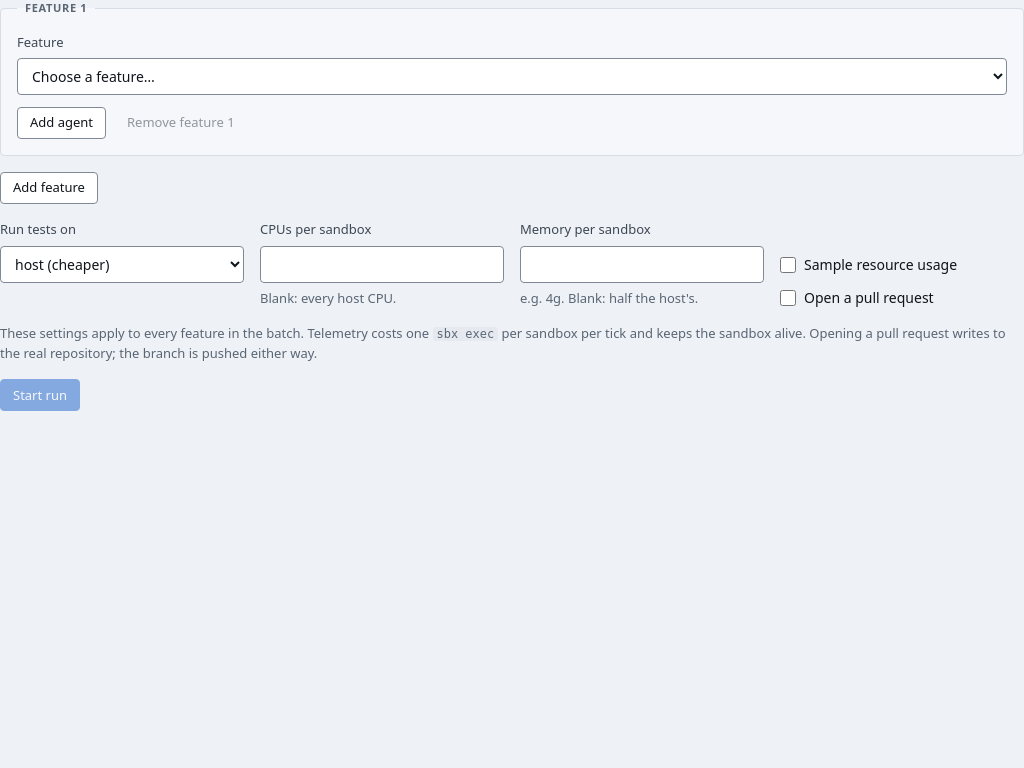
Test case: RunLauncher › starts a run with the chosen feature and agents
Select "add-separable-verbs" in the dropdown labelled "Feature" at {"x": 512, "y": 76}, box [17,58,1007,95]
(page scrolled)
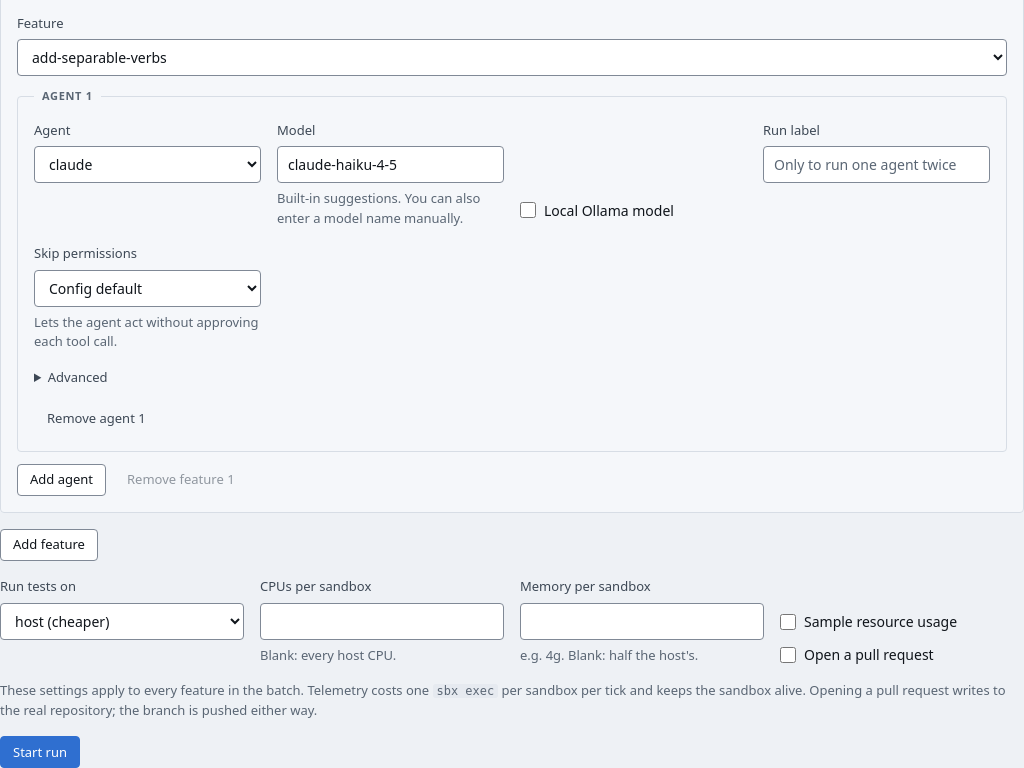
Click the button "Start run".
click(40, 752)  # box [0,736,80,767]
(page scrolled)
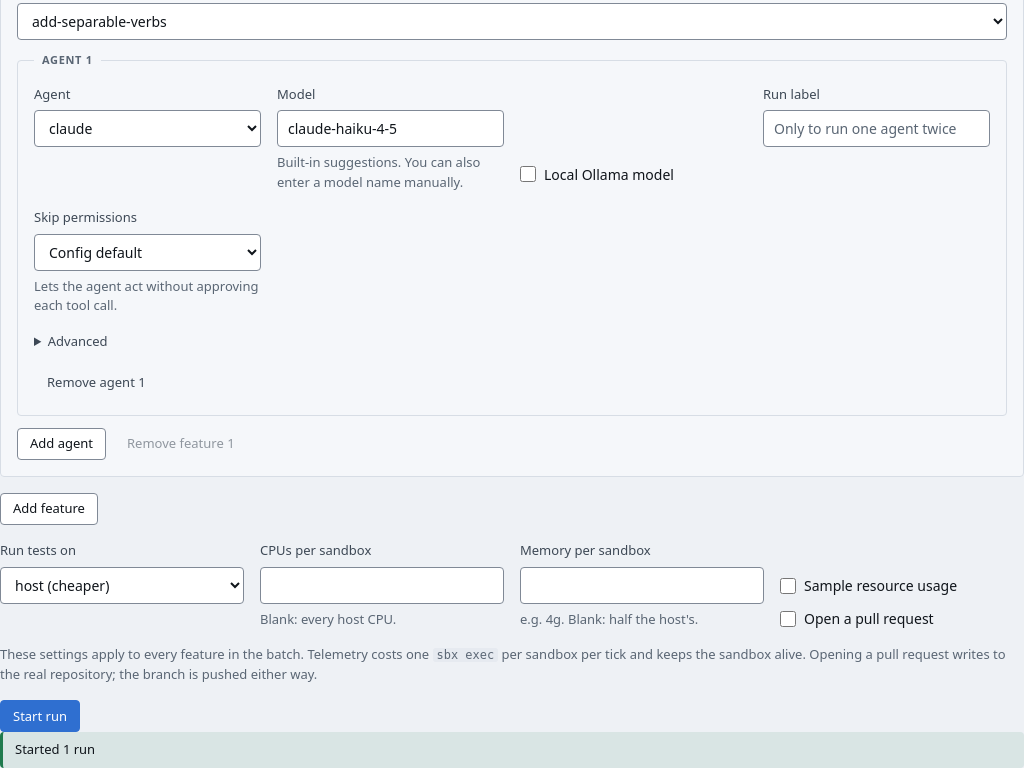
Now the message reads "Started 1 run", box [15,740,95,758]
